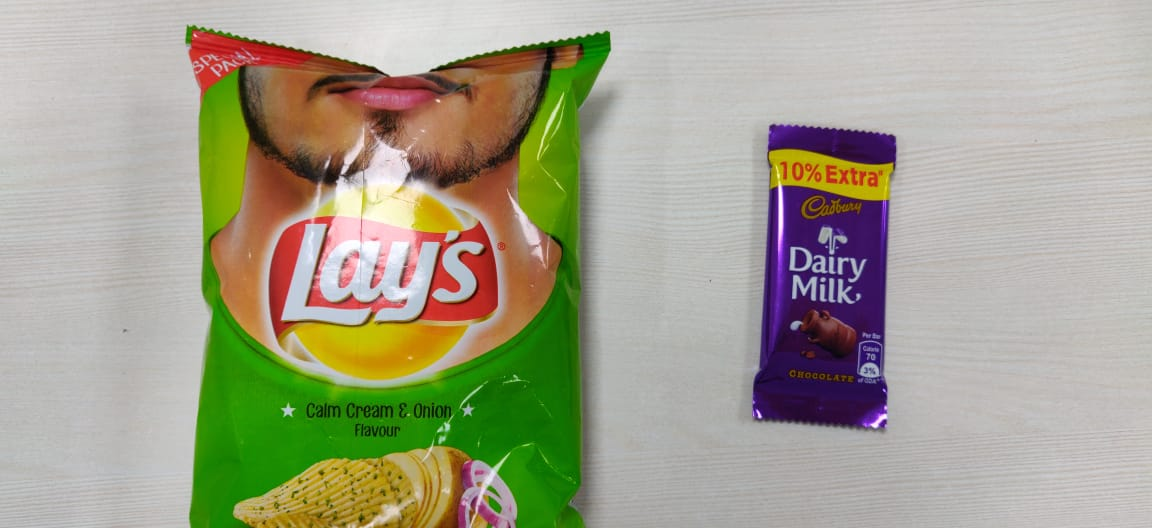dairy milk: (748, 115, 904, 431)
lays chips: (172, 13, 620, 528)
